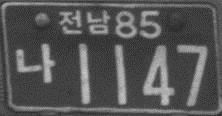1: (112, 41, 128, 108), (77, 41, 93, 106)
4: (140, 45, 175, 106)
5: (139, 9, 161, 40)
7: (175, 42, 209, 109)
8: (115, 9, 138, 39)
나: (15, 41, 55, 85)
전남_O: (57, 9, 110, 37)
